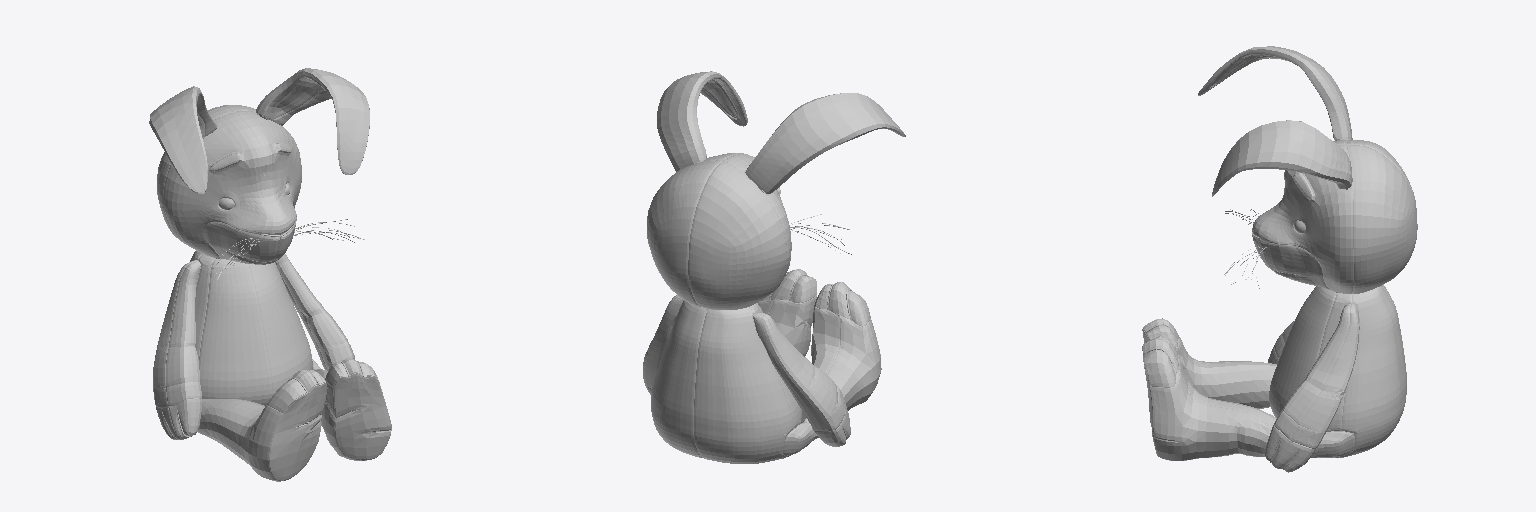
File: toy rabbit.obj
3 renders of one model, left to right at view 1: azimuth 30°, elevation 25°; view 2: azimuth 150°, elevation 25°; view 3: azimuth 270°, elevation 25°, orthographic.
Visible parts, largest first — view 1: rabbit_body; view 2: rabbit_body; view 3: rabbit_body.
Part boxes in pixels (x1,y1,x2,y2): rabbit_body: (149, 68, 391, 481); rabbit_body: (643, 71, 905, 463); rabbit_body: (1142, 46, 1417, 472).
Size of the model in its own units: 215 by 338 by 239.